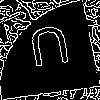U: (24, 24, 76, 78)
